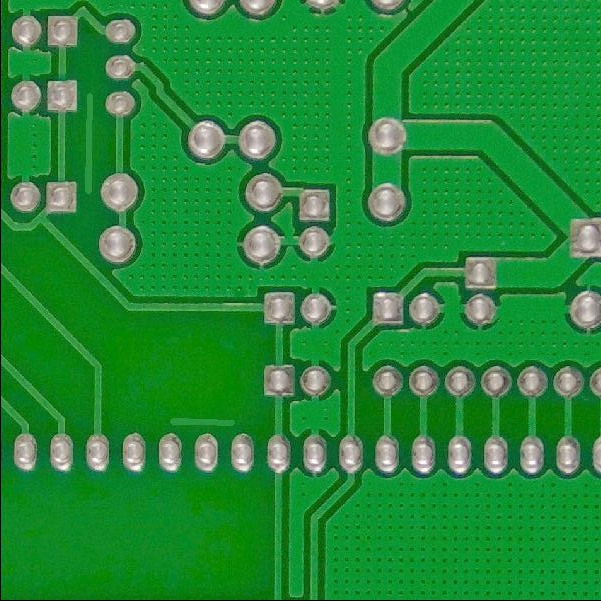spurious_copper: (66, 90, 110, 205), (162, 404, 240, 450)
